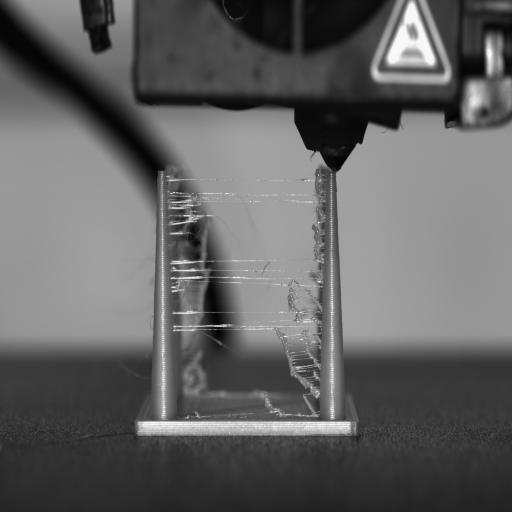spaghetti_and_stringing: (170, 193, 206, 230), (286, 280, 304, 320), (307, 286, 323, 320), (302, 394, 319, 416), (194, 410, 201, 418)
